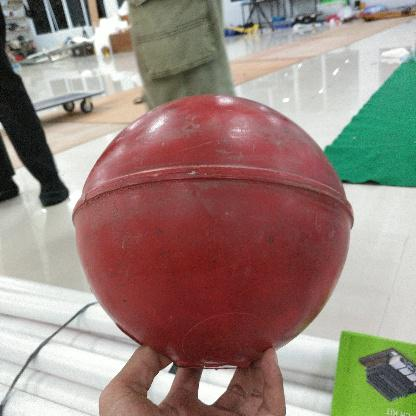red_buoy: (70, 93, 354, 364)
